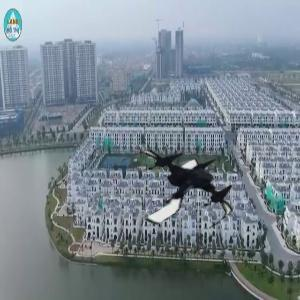drone: (121, 133, 235, 247)
